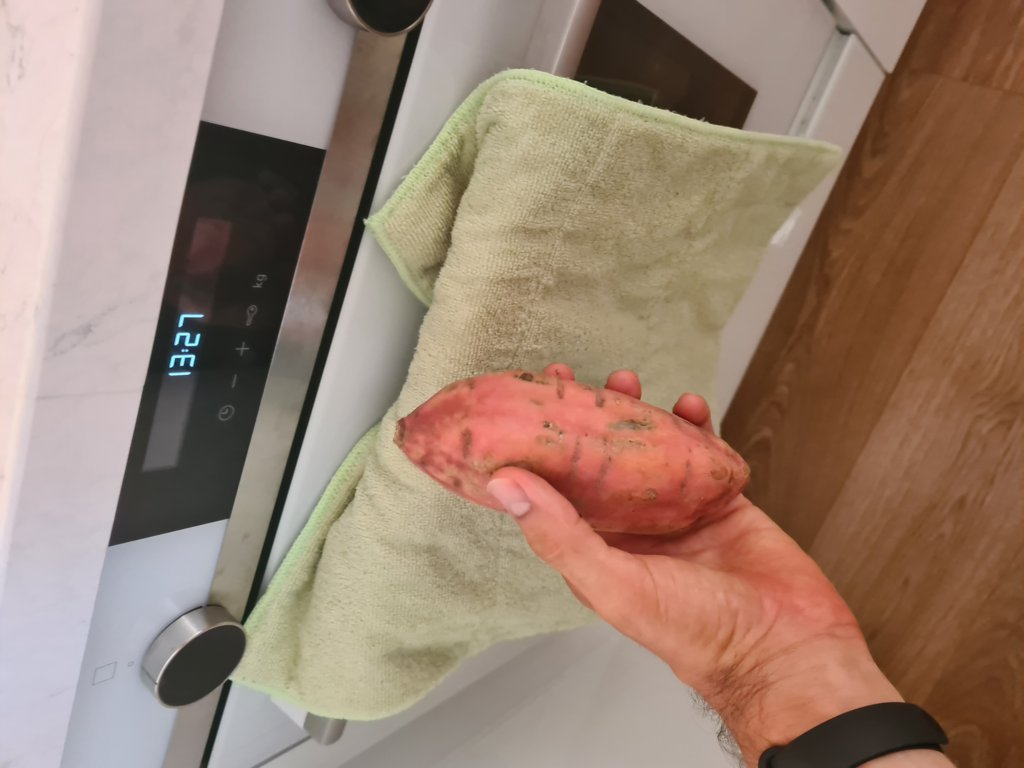Sweet Potatow: (395, 376, 759, 533)
